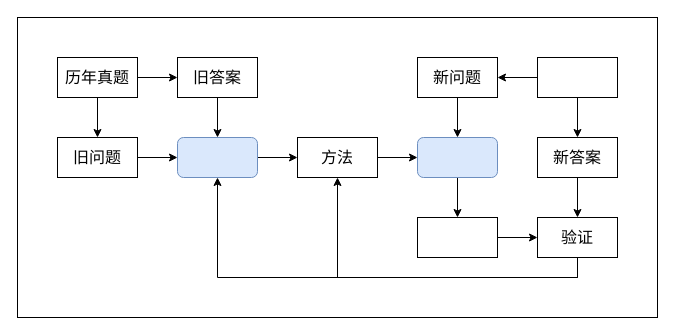
This 675x335 diagram has some shape labels left out. Each missing label, with the box of its shape:
学习: (176, 136, 258, 178)
应用: (416, 136, 498, 178)
模拟题: (536, 56, 618, 98)
预测答案: (416, 216, 498, 258)
